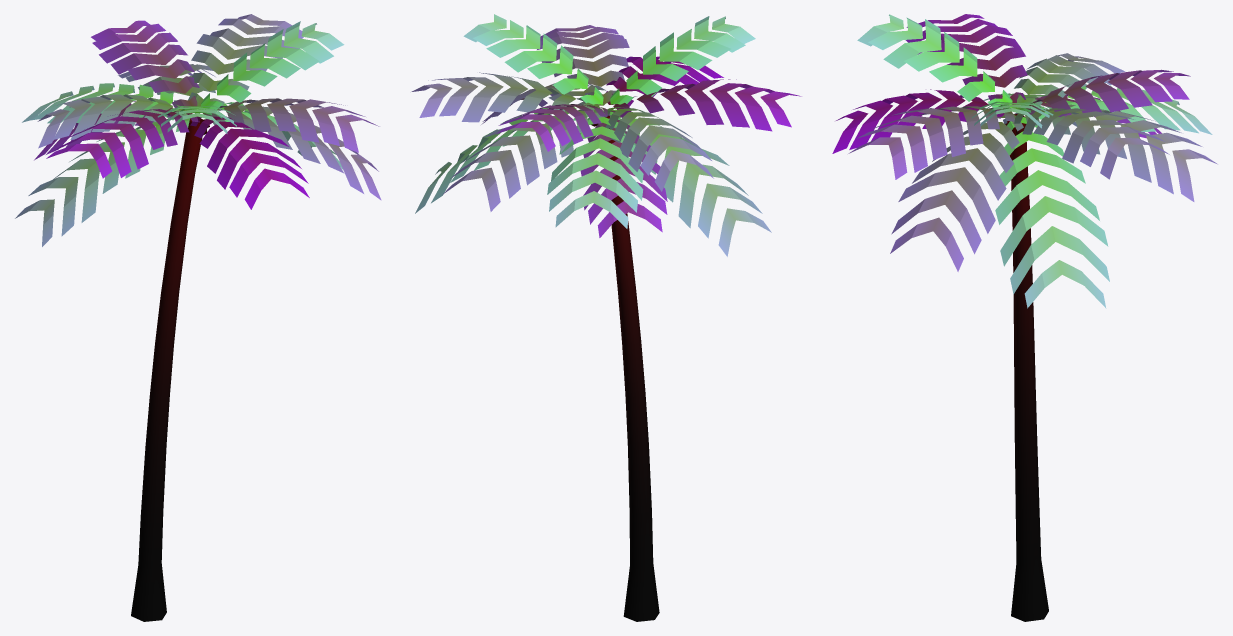
File: Palm0_LOD1.fbx
The picture shows the model from 3 angles, left to right: view 1: azimuth 30°, elevation 25°; view 2: azimuth 150°, elevation 25°; view 3: azimuth 270°, elevation 25°; orthographic projection. The views are drawn at different scales.
Parts seen in each view (by area): view 1: Palm0_Lite; view 2: Palm0_Lite; view 3: Palm0_Lite.
Boxes of the visible parts, x1=… form: Palm0_Lite: x1=15, y1=14, x2=381, y2=621; Palm0_Lite: x1=411, y1=14, x2=801, y2=621; Palm0_Lite: x1=832, y1=14, x2=1217, y2=621.
Size of the model in its own units: 8.93 by 14.01 by 8.4.
